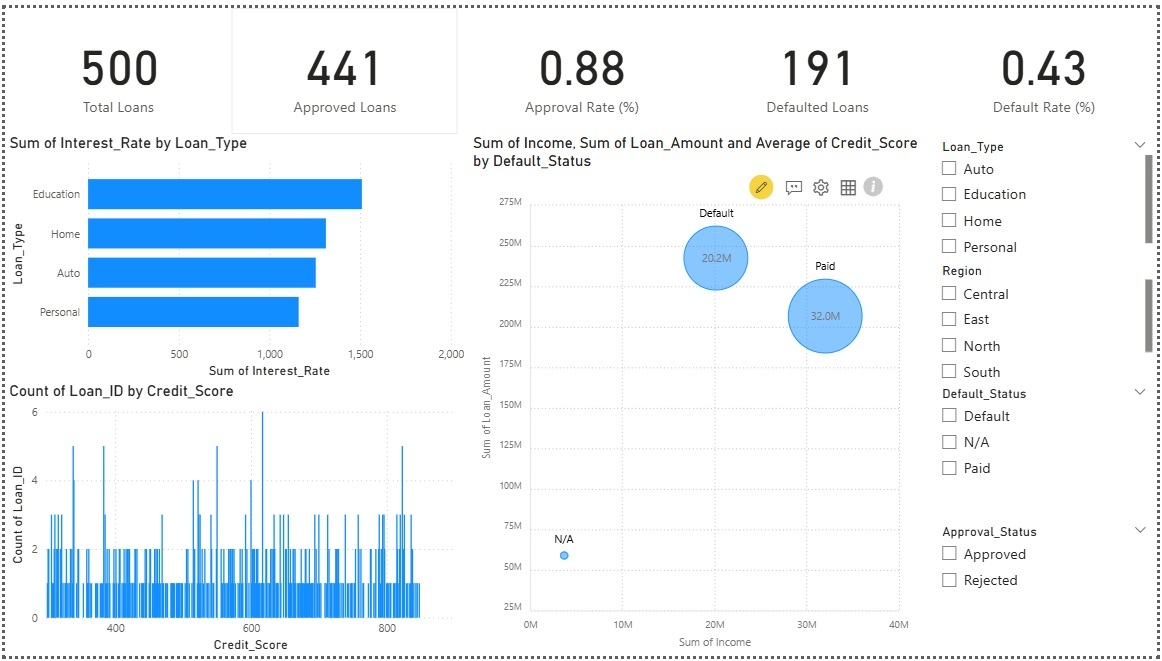

This screenshot's page, from the dashboard's own definition file:
{"tool":"powerbi","page":{"name":"Page 2","canvas":[1280,720],"ordinal":1},"visuals":[{"type":"card","fields":{"Values":["Loan Metrics.Total Loans"]},"box":[0,0,251.7,140],"z":0},{"type":"card","fields":{"Values":["Risk Metrics.Defaulted Loans"]},"box":[776.7,0,251.7,140],"z":1},{"type":"card","fields":{"Values":["Loan Metrics.Approval Rate (%)"]},"box":[515,0,251.7,140],"z":2},{"type":"card","fields":{"Values":["Loan Metrics.Approved Loans"]},"box":[251.7,0,251.7,140],"z":3},{"type":"card","fields":{"Values":["Risk Metrics.Default Rate (%)"]},"box":[1028.3,0,251.7,140],"z":4},{"type":"clusteredColumnChart","fields":{"Category":["Bank_Loan_Performance.Credit_Score"],"Y":["CountNonNull(Bank_Loan_Performance.Loan_ID)"]},"box":[0,415,515,305],"z":5},{"type":"clusteredBarChart","fields":{"Category":["Bank_Loan_Performance.Loan_Type"],"Y":["Sum(Bank_Loan_Performance.Interest_Rate)"]},"box":[0,140,515,275],"z":6},{"type":"performanceBubbleChartFBAAA829CB604E5CAB4F21729F233294","fields":{"xmeasure":["Sum(Bank_Loan_Performance.Income)"],"ymeasure":["Sum(Bank_Loan_Performance.Loan_Amount)"],"zmeasure":["Avg(Bank_Loan_Performance.Credit_Score)"],"category":["Bank_Loan_Performance.Default_Status"]},"box":[515,140,513.3,580],"z":7},{"type":"slicer","fields":{"Values":["Bank_Loan_Performance.Loan_Type"]},"box":[1028.3,140,251.7,138.3],"z":8},{"type":"slicer","fields":{"Values":["Bank_Loan_Performance.Region"]},"box":[1028.3,278.3,251.7,136.7],"z":9},{"type":"slicer","fields":{"Values":["Bank_Loan_Performance.Default_Status"]},"box":[1028.3,415,251.7,153.3],"z":10},{"type":"slicer","fields":{"Values":["Bank_Loan_Performance.Approval_Status"]},"box":[1028,568,252,152],"z":11}]}

Visuals, with their boxes in screenshot pixels (x1, y1, x2, y2), scaled from the page's 1280x720 canvas onto the 1162x661 screenshot:
card - Loan Metrics.Total Loans: locate(0, 0, 228, 129)
card - Risk Metrics.Defaulted Loans: locate(705, 0, 934, 129)
card - Loan Metrics.Approval Rate (%): locate(468, 0, 696, 129)
card - Loan Metrics.Approved Loans: locate(228, 0, 457, 129)
card - Risk Metrics.Default Rate (%): locate(934, 0, 1161, 129)
clusteredColumnChart - Bank_Loan_Performance.Credit_Score x CountNonNull(Bank_Loan_Performance.Loan_ID): locate(0, 381, 468, 660)
clusteredBarChart - Bank_Loan_Performance.Loan_Type x Sum(Bank_Loan_Performance.Interest_Rate): locate(0, 129, 468, 381)
performanceBubbleChartFBAAA829CB604E5CAB4F21729F233294 - Sum(Bank_Loan_Performance.Income) x Sum(Bank_Loan_Performance.Loan_Amount): locate(468, 129, 934, 660)
slicer - Bank_Loan_Performance.Loan_Type: locate(934, 129, 1161, 255)
slicer - Bank_Loan_Performance.Region: locate(934, 255, 1161, 381)
slicer - Bank_Loan_Performance.Default_Status: locate(934, 381, 1161, 522)
slicer - Bank_Loan_Performance.Approval_Status: locate(933, 521, 1161, 660)
